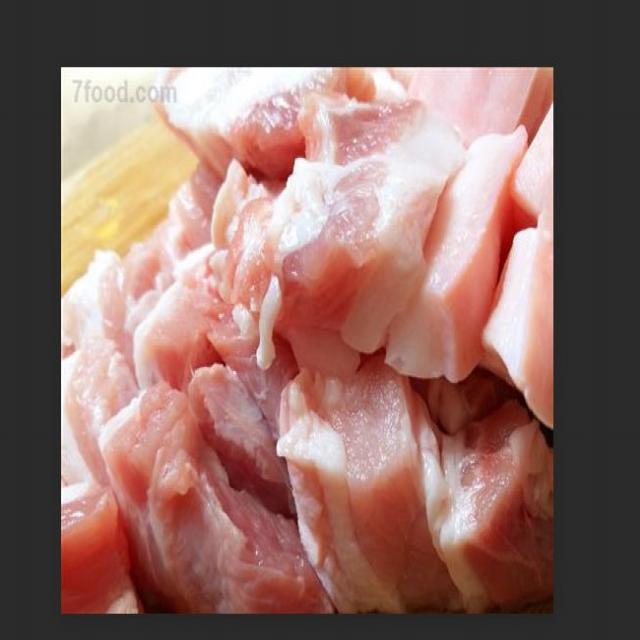Pork: (284, 367, 443, 618), (429, 122, 558, 411), (241, 147, 444, 321), (445, 364, 557, 614), (103, 377, 206, 587), (65, 241, 121, 596)
